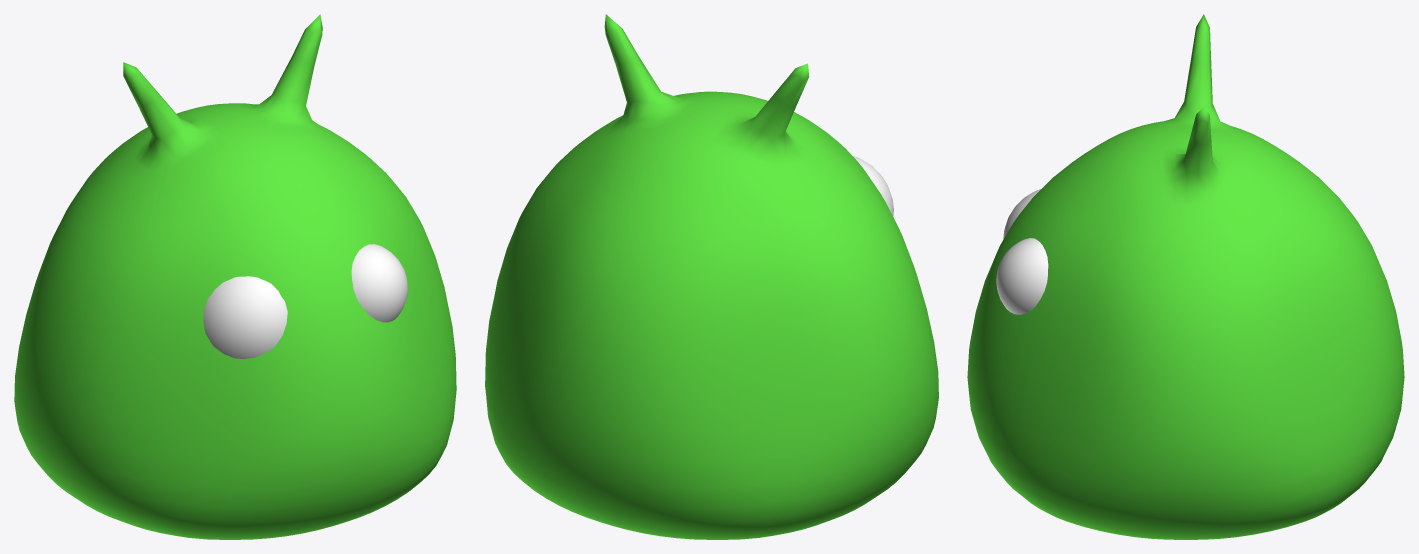
File: blender slime 3.fbx
3 renders of one model, left to right at view 1: azimuth 30°, elevation 25°; view 2: azimuth 150°, elevation 25°; view 3: azimuth 270°, elevation 25°, orthographic. The views are drawn at different scales.
Parts seen in each view (by area): view 1: Roundcube, Sphere, Sphere.001; view 2: Roundcube, Sphere; view 3: Roundcube, Sphere.001.
Part boxes in pixels (x1,y1,x2,y2): Roundcube: (14, 14, 456, 539); Sphere: (203, 276, 287, 359); Sphere.001: (351, 244, 407, 322); Roundcube: (485, 14, 938, 539); Sphere: (853, 156, 893, 216); Roundcube: (967, 14, 1404, 539); Sphere.001: (996, 238, 1048, 314).
Size of the model in its own units: 83.19 by 91.6 by 83.19.
